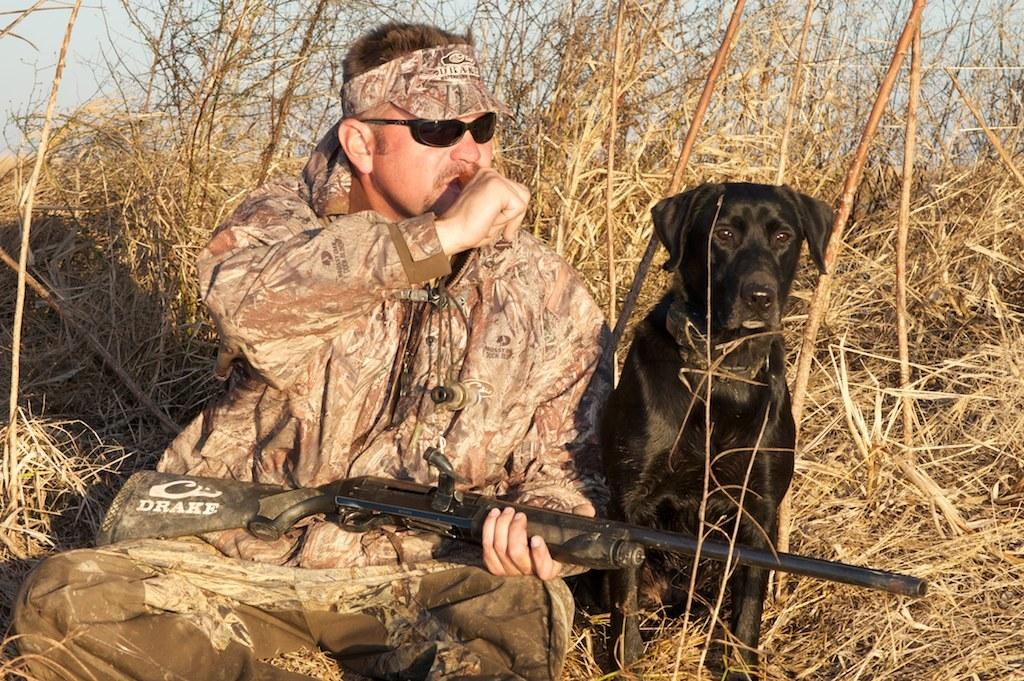Rifle: (124, 462, 703, 605)
